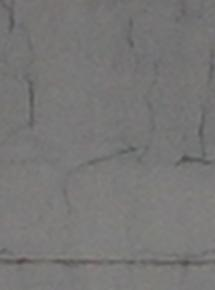termicas: (67, 93, 215, 208), (0, 0, 52, 141)
